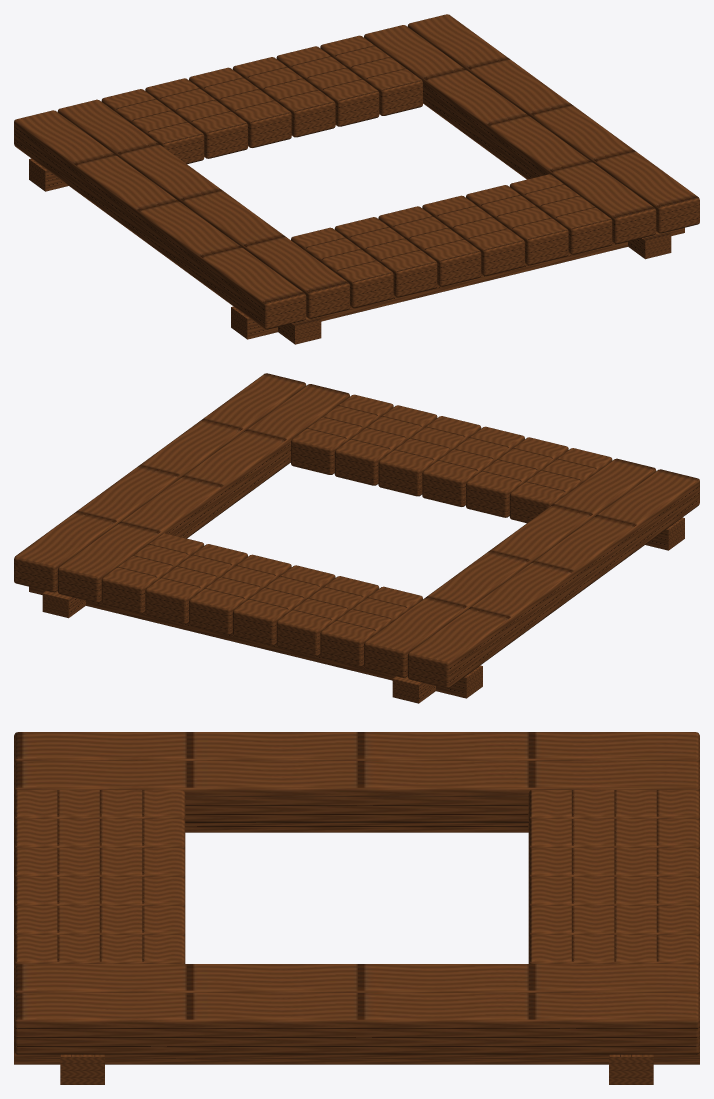
Rendered from modular-survival-base-builder-floor-trapdoor-frame-6e74768b__24146.glb.
3 renders of one model, top to bottom at view 1: azimuth 30°, elevation 25°; view 2: azimuth 150°, elevation 25°; view 3: azimuth 270°, elevation 25°, orthographic. The views are drawn at different scales.
Parts seen in each view (by area): view 1: floor-trapdoor-frame; view 2: floor-trapdoor-frame; view 3: floor-trapdoor-frame.
Boxes of the visible parts, box(x1,y1,x2,y2) form: floor-trapdoor-frame: box(14, 14, 699, 344); floor-trapdoor-frame: box(14, 373, 699, 703); floor-trapdoor-frame: box(14, 732, 699, 1084).
Bounding box in the file's own units: 2 × 0.21 × 2.
Materials: 1 (1 with a texture image).
